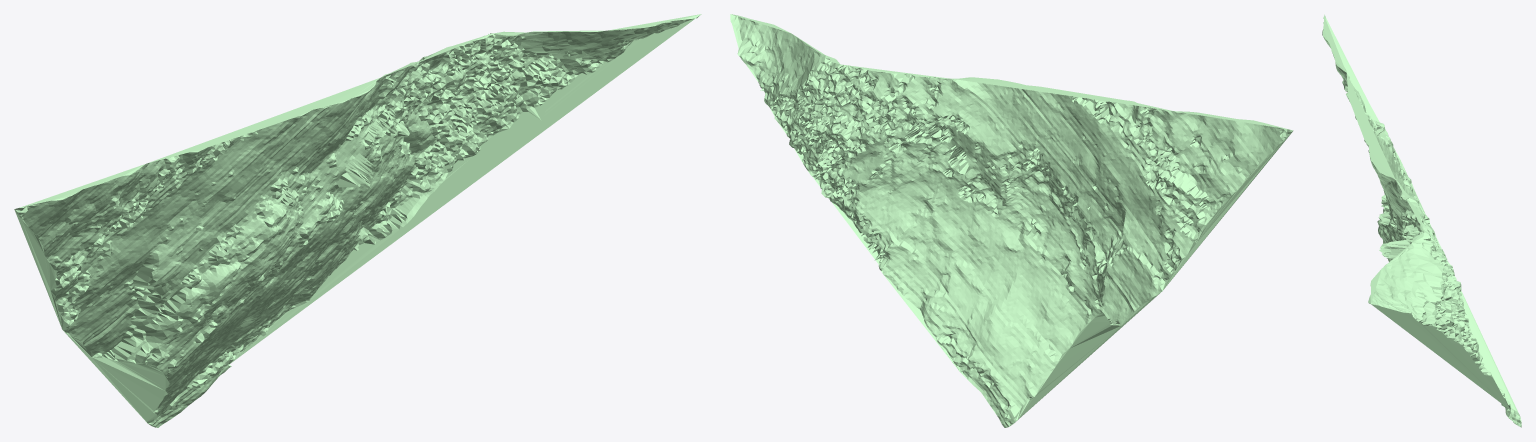
Rendered from test2_renderback_colorgreen.glb.
The picture shows the model from 3 angles, left to right: view 1: azimuth 30°, elevation 25°; view 2: azimuth 150°, elevation 25°; view 3: azimuth 270°, elevation 25°; orthographic projection. The views are drawn at different scales.
Bounding box in the file's own units: 113 × 55.75 × 32.8.
